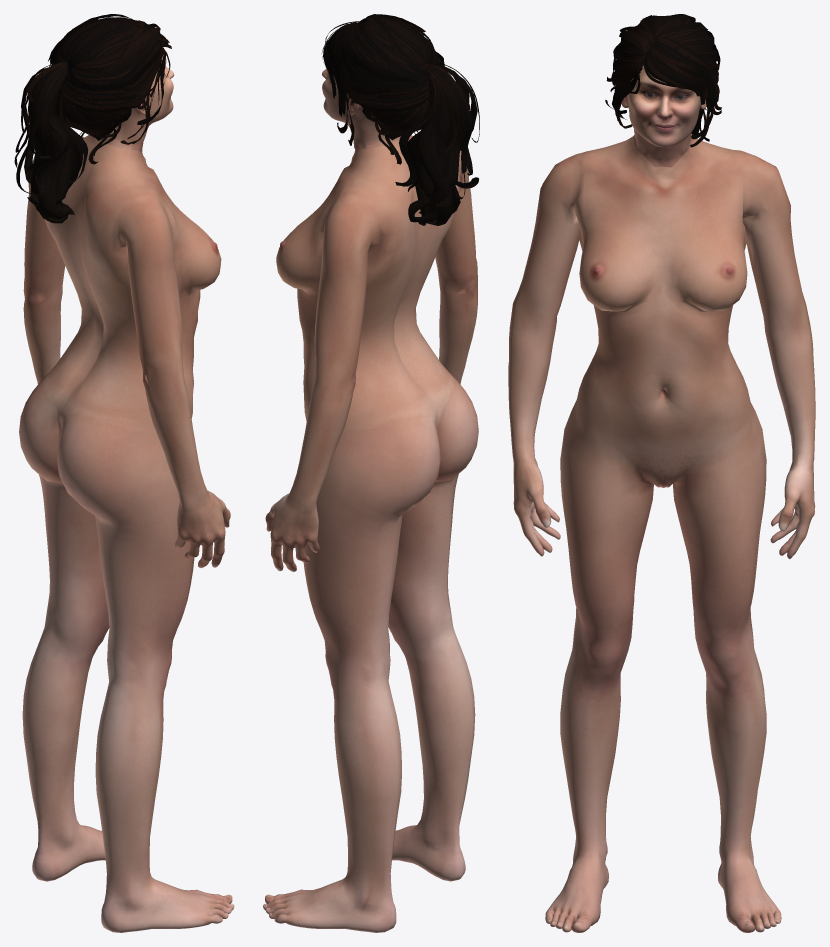
The model's file is FemaleMain.fbx.
3 renders of one model, left to right at view 1: azimuth 30°, elevation 25°; view 2: azimuth 150°, elevation 25°; view 3: azimuth 270°, elevation 25°, orthographic.
Visible parts, largest first — view 1: HeadObject; view 2: HeadObject; view 3: HeadObject.
Boxes of the visible parts, x1,y1,x2,y2 form: HeadObject: (14, 14, 234, 932); HeadObject: (263, 14, 479, 932); HeadObject: (508, 14, 815, 932).
Size of the model in its own units: 59.98 by 294 by 92.49.
